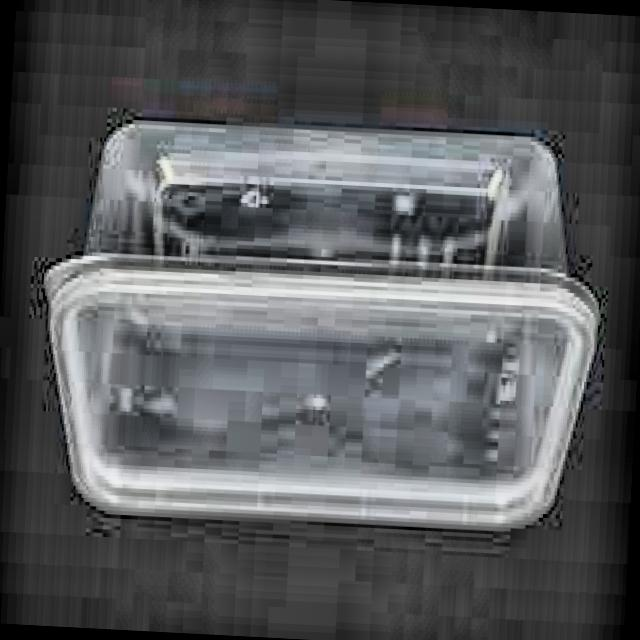plastic container: (47, 124, 597, 524)
